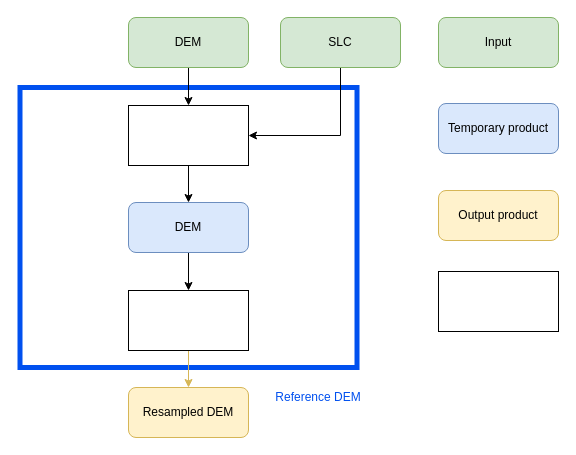
Some shapes in this 576 by 455 pixel diagram are drawn without their labels. Here are the shapes that lost their labels. From the top down, the box of each, then its label:
(128, 104, 248, 166): DEM import
(128, 290, 248, 350): DEM Resampling
(438, 270, 558, 332): Processing block
